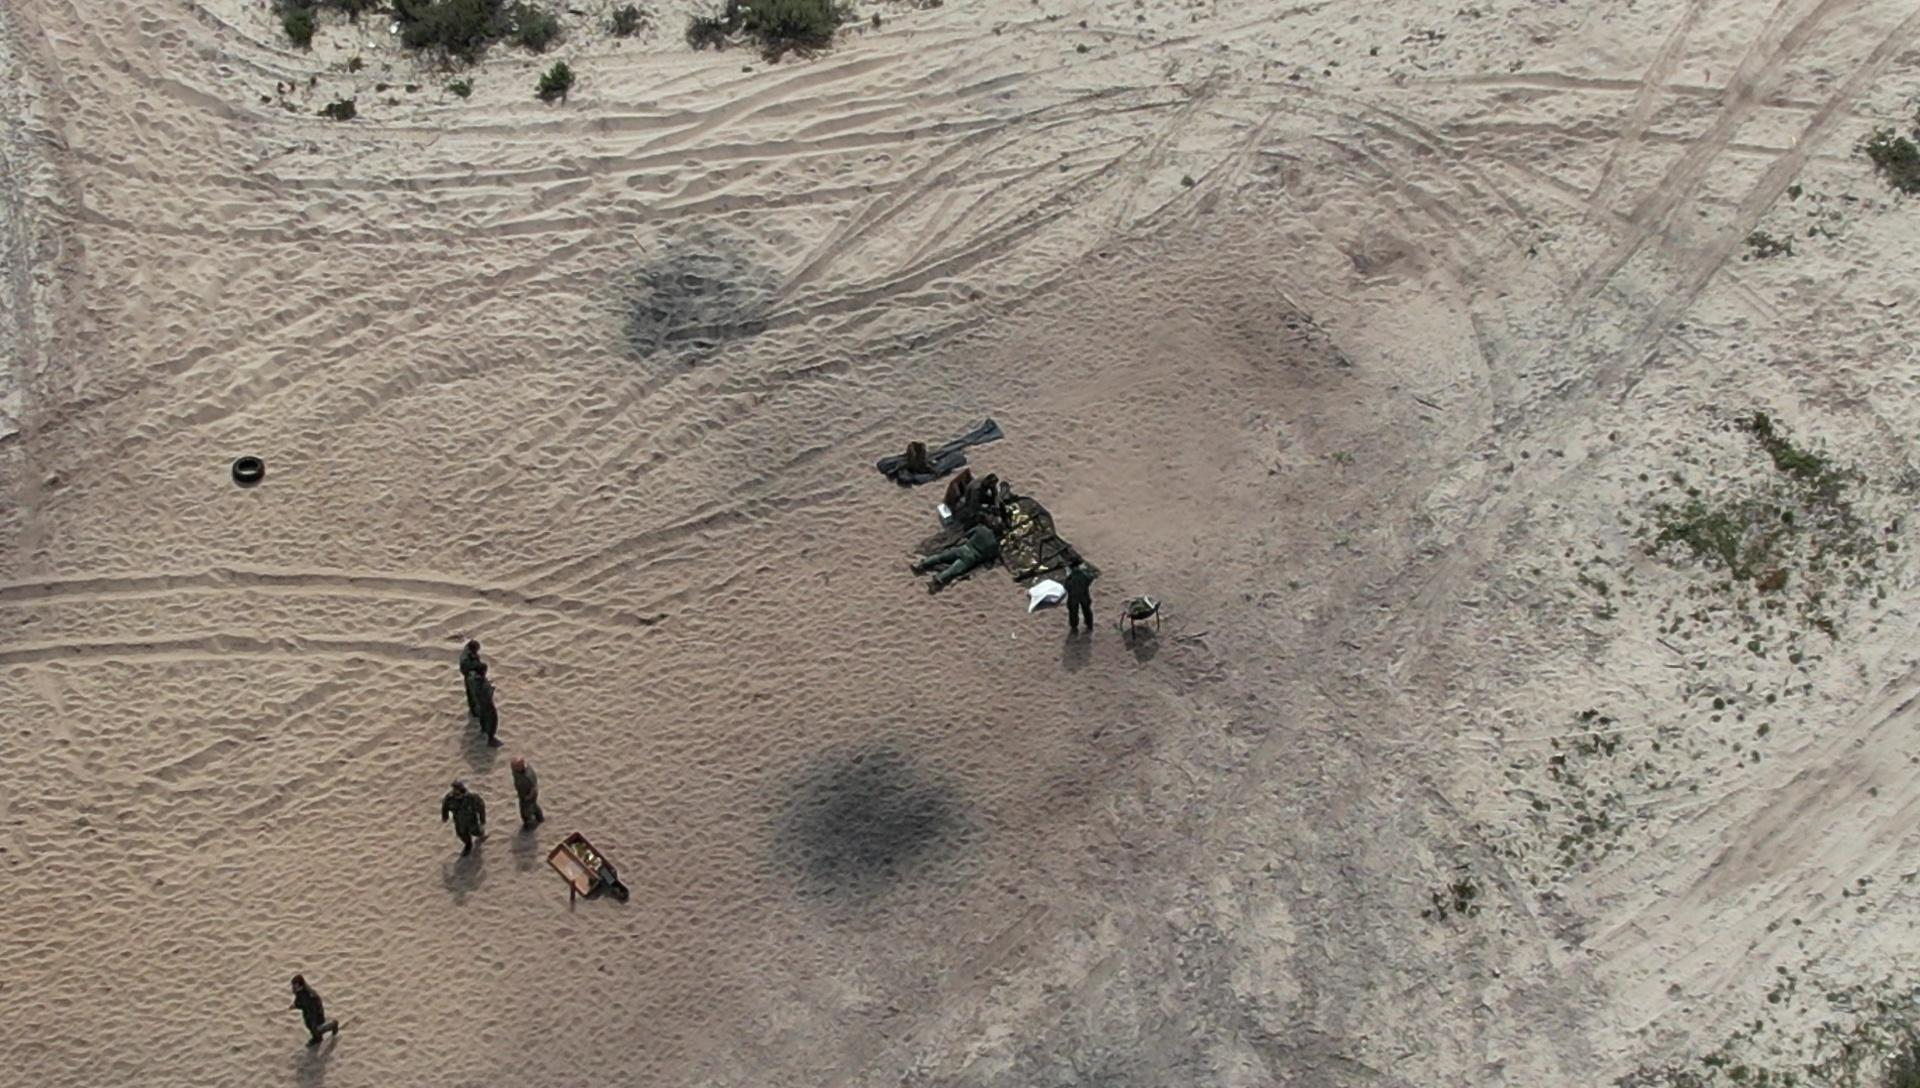Soldier: (927, 501, 1022, 586), (281, 981, 351, 1066), (502, 746, 553, 857), (440, 778, 493, 860), (1060, 549, 1098, 644), (949, 476, 1009, 531), (462, 673, 502, 750)
